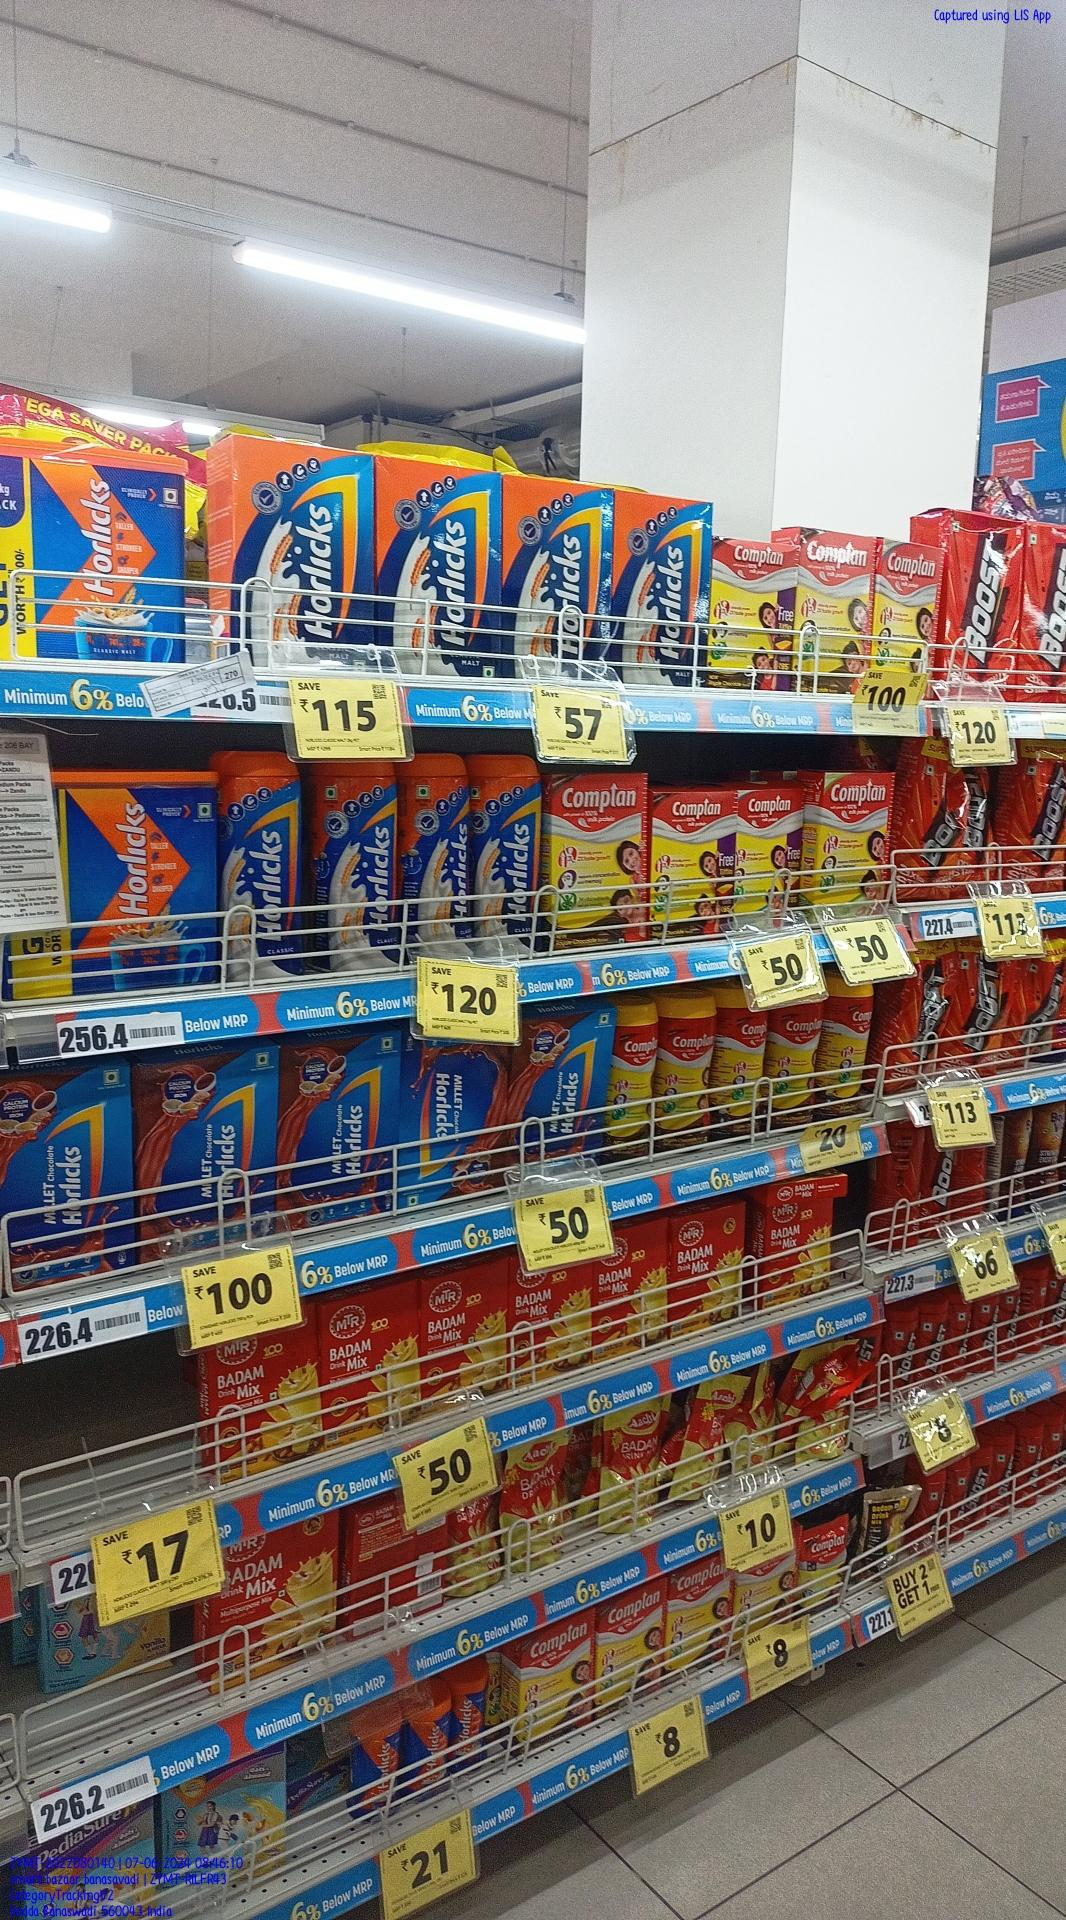COMPLAN_CHOCOLATE_200_GMS_PACK: (646, 787, 738, 933), (713, 539, 796, 688), (521, 1622, 592, 1748), (595, 1595, 664, 1709), (667, 1563, 730, 1679)
COMPLAN_CHOCOLATE_500_GMS_JAR: (658, 988, 714, 1148), (608, 995, 655, 1158), (717, 986, 765, 1139), (823, 975, 872, 1118), (768, 1003, 819, 1129)
COMPLAN_CHOCOLATE_500_GMS_PACK: (553, 770, 646, 942), (796, 532, 877, 698)
COMPLAN_CREAMY_CLASSIC_500_G_PACK: (877, 541, 945, 680)
COMPLAN_PISTA_BADAM_500_GMS_PACK: (815, 770, 895, 912)
HORLICK_CLASSIC_MALT_200_G_JAR: (347, 1701, 399, 1823), (402, 1686, 450, 1797), (453, 1663, 486, 1772)
HORLICK_CLASSIC_MALT_500_G_JAR: (307, 762, 399, 971), (226, 751, 303, 984), (403, 752, 470, 959), (475, 753, 545, 953)
HORLICK_CLASSIC_MALT_500_G_PACK: (238, 444, 377, 655), (382, 466, 501, 677), (504, 482, 613, 668), (616, 500, 709, 689)
HORLICK_MALT_1_KG_CONTAINER: (0, 436, 189, 657)
